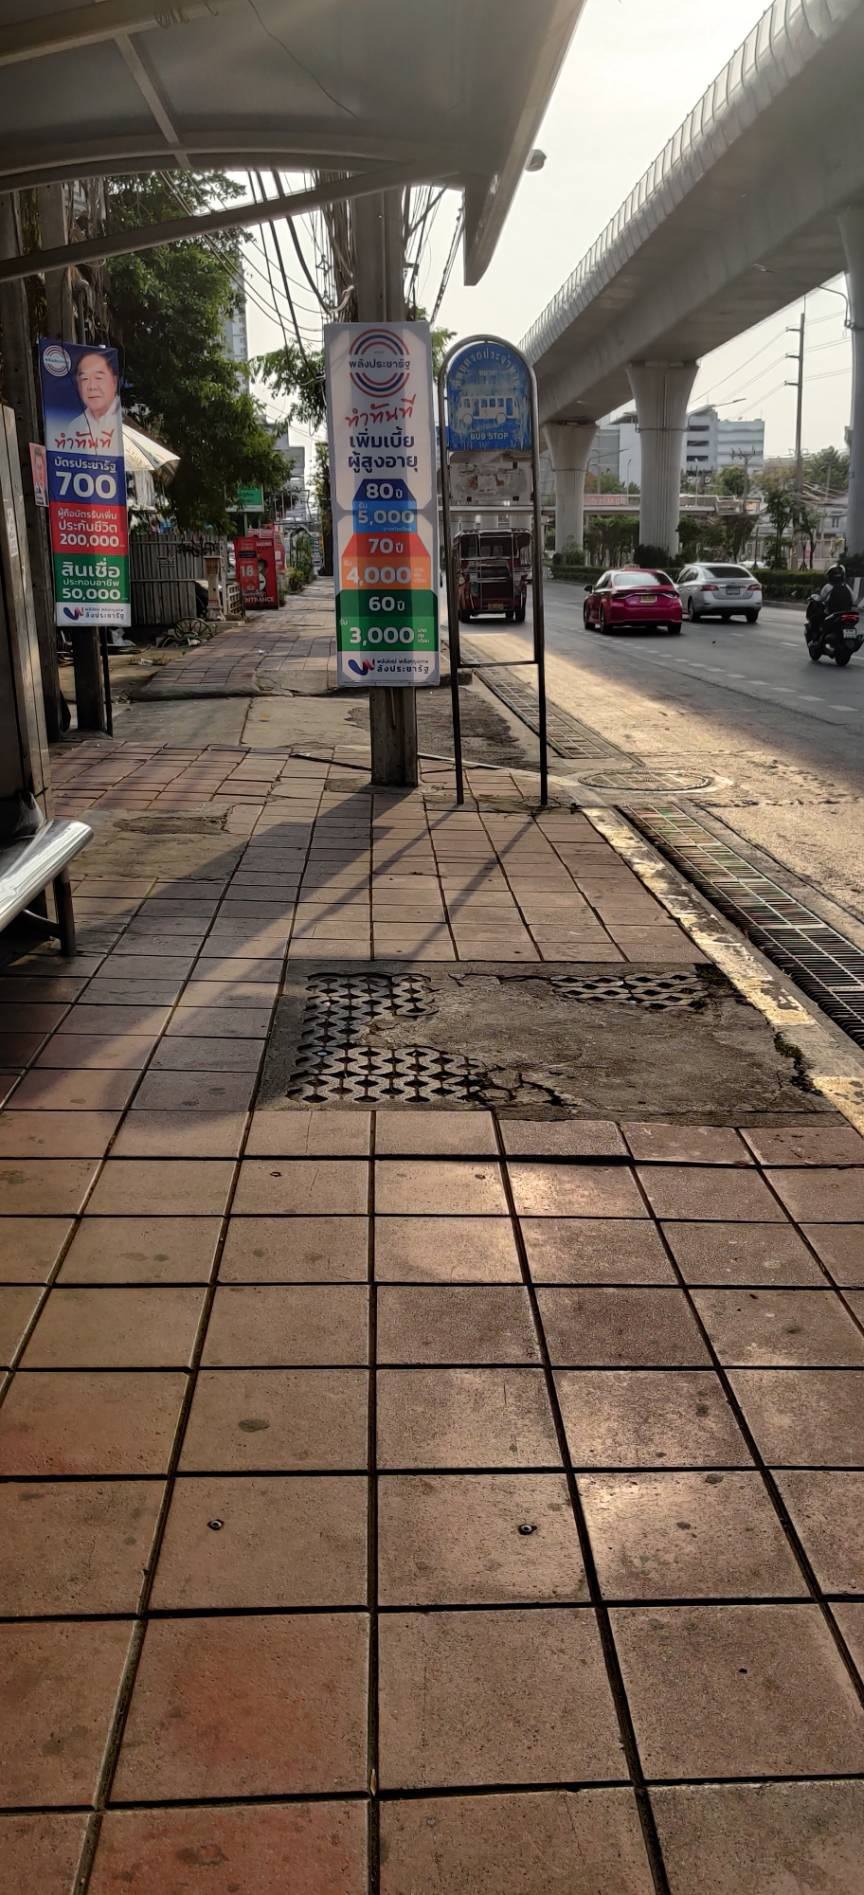Banner: (327, 334, 471, 692), (37, 344, 146, 644)
